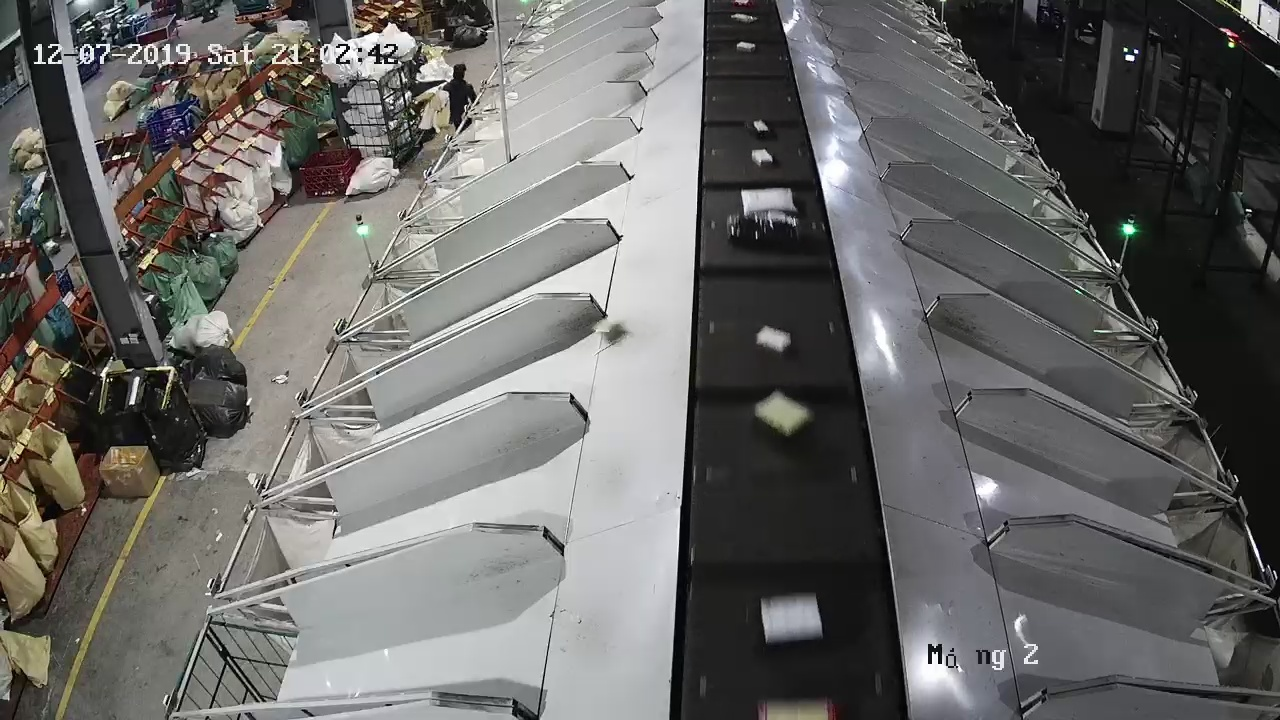parcel: (591, 315, 624, 342)
